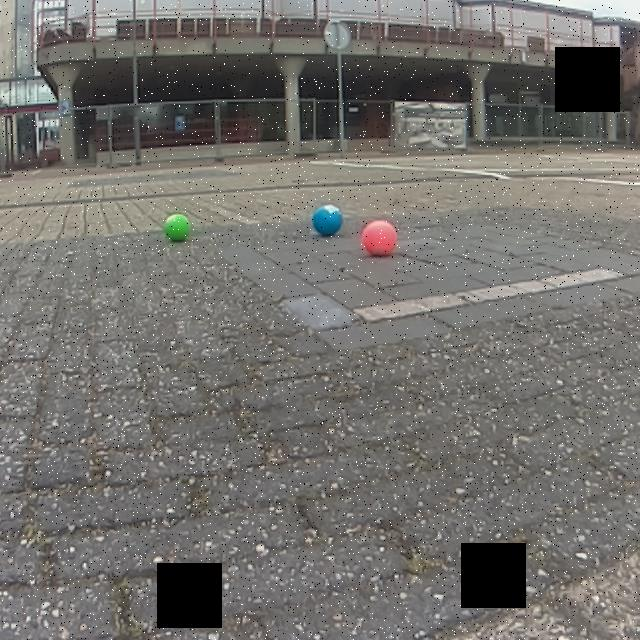ball: (359, 218, 401, 257), (160, 212, 192, 243), (312, 203, 342, 235)
